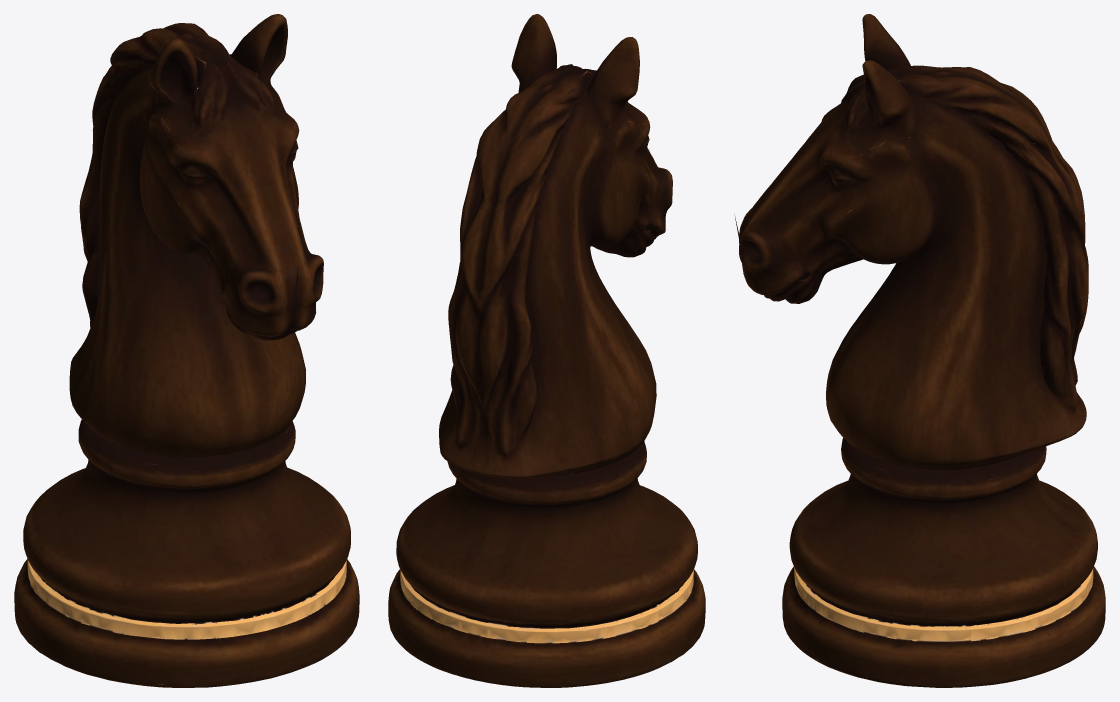
Rendered from 08_knight_dark.glb.
3 views of the same model, side by side, from view 1: azimuth 30°, elevation 25°; view 2: azimuth 150°, elevation 25°; view 3: azimuth 270°, elevation 25° (orthographic). The views are drawn at different scales.
Visible parts, largest first — view 1: world; view 2: world; view 3: world.
Part boxes in pixels (x1,y1,x2,y2): world: (14, 14, 359, 687); world: (388, 14, 705, 687); world: (734, 14, 1105, 687).
Bounding box in the file's own units: 0.5081 × 1 × 0.5806.
1 material, 1 textured.
